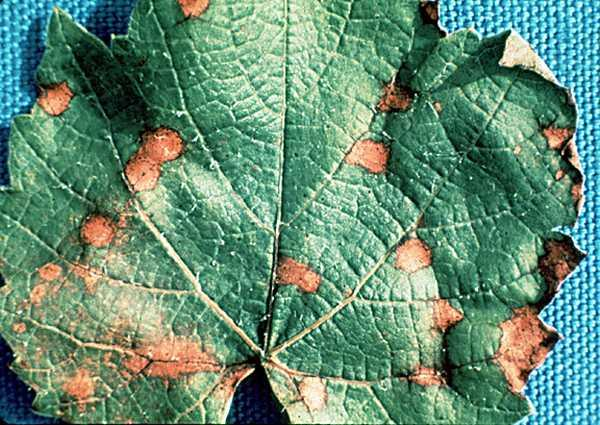grape leaf: (1, 7, 581, 409)
